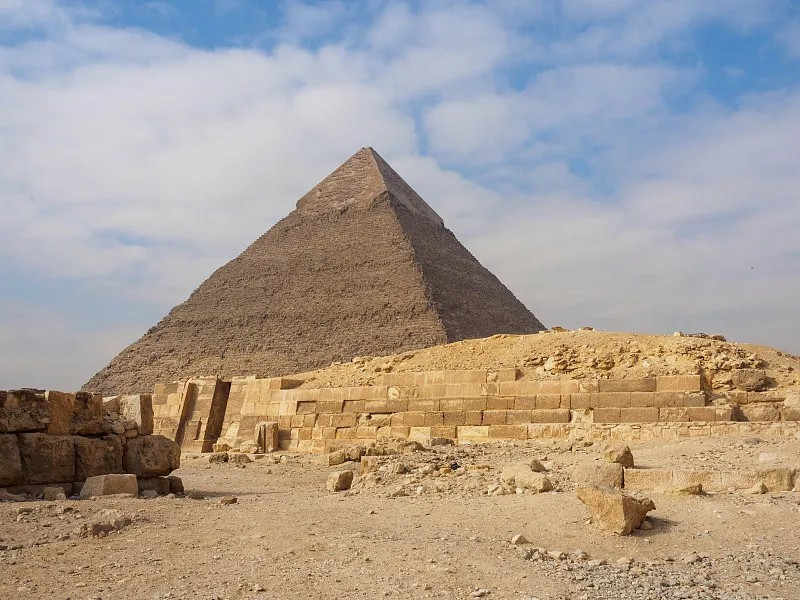Pyramid: (78, 145, 548, 399)
